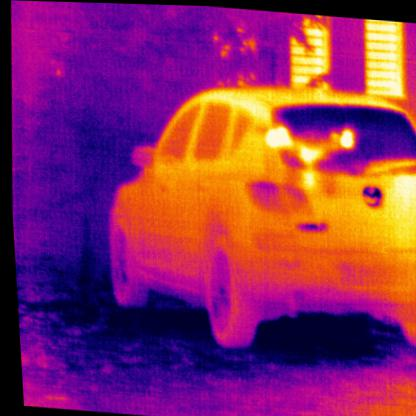drone: (258, 115, 358, 191)
vehicle: (91, 70, 415, 360)
